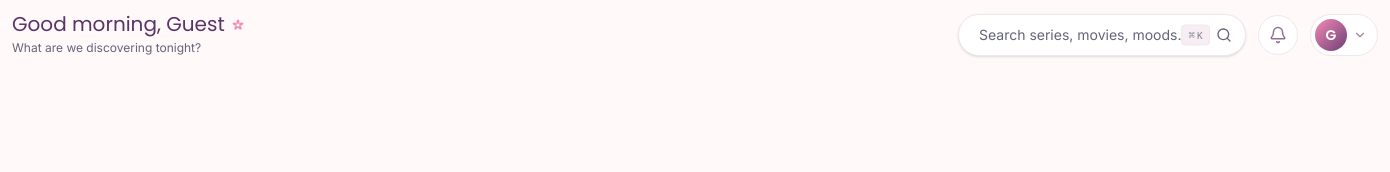
Scenario: DashboardHeader live search (matching the admin panel search) › shows live results from GET /series?q= once the query reaches the minimum length
Type "se" into the field with placeholder "Search series, movies, moods..." at (1102, 34), box [958,14,1246,56]
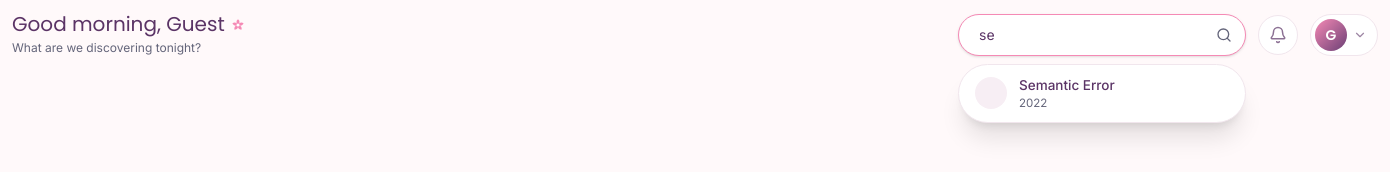
Expected: the text "Semantic Error" is shown, [1019,76,1115,92]
